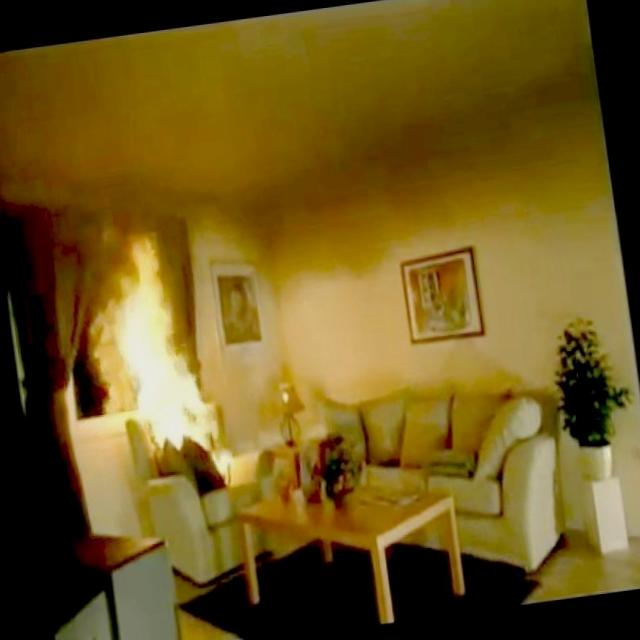fire: (79, 225, 234, 470)
